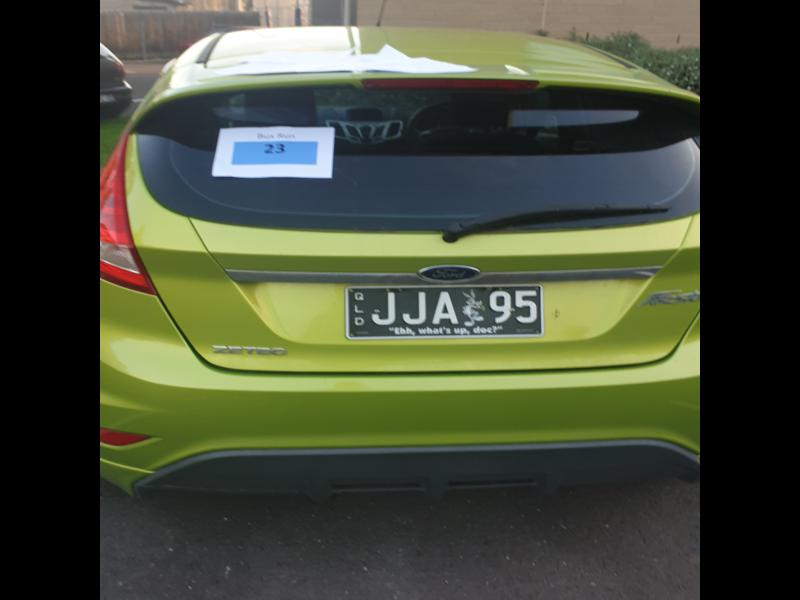BusRun: (231, 140, 318, 164)
PlateNo: (350, 282, 544, 337)
